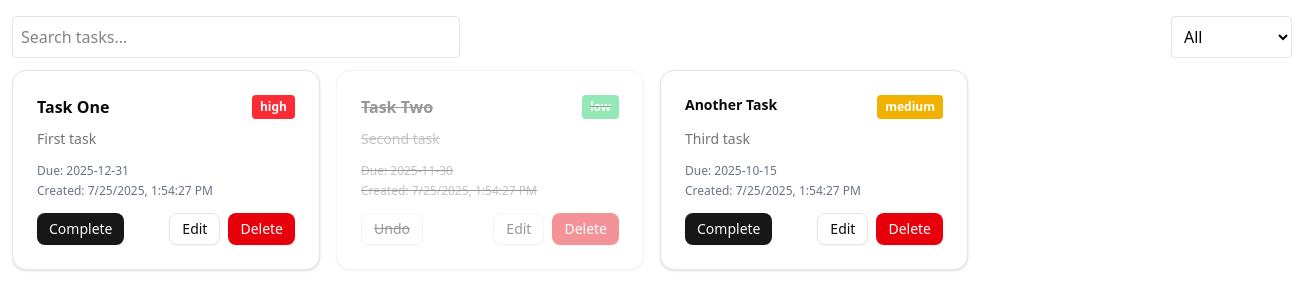
it: TaskList › filters tasks by status
Select "Completed" in the dropdown showing "All": (1232, 37) [1171,16,1292,58]
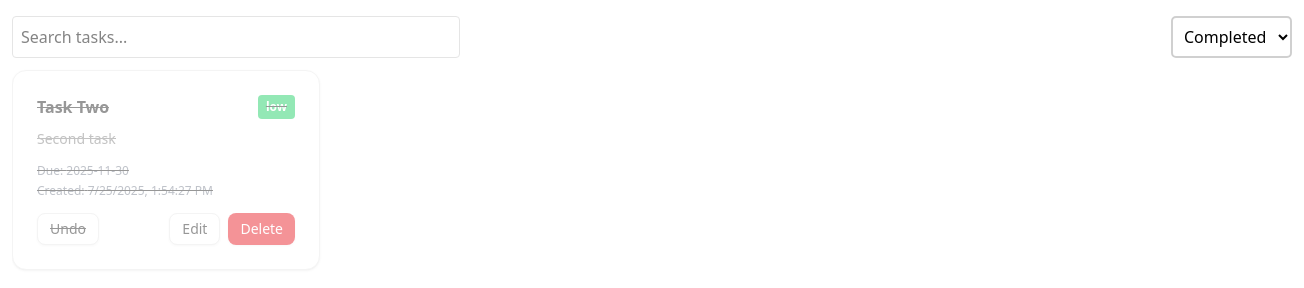
Expected: the text "Task Two" is shown, [37,95,109,119]
Expected: the text "Task One" is gone
Expected: the text "Another Task" is gone
